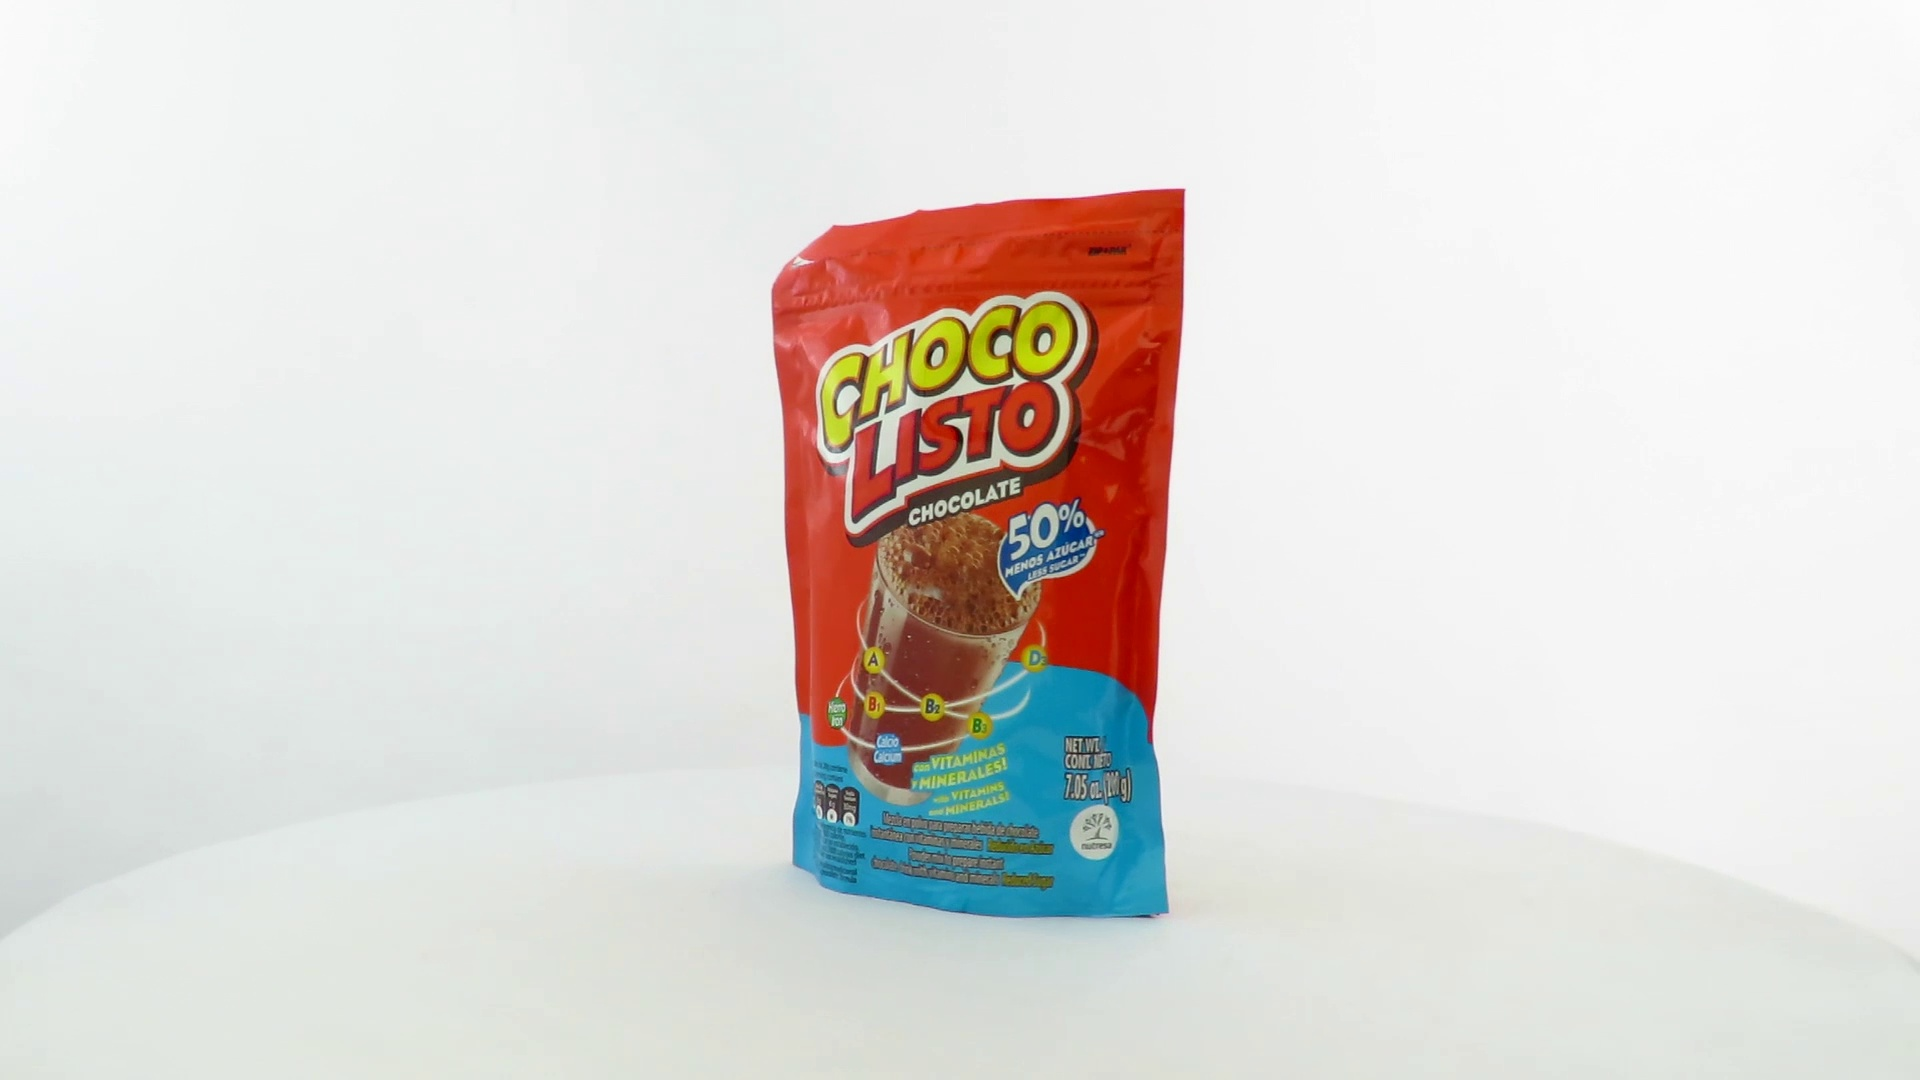COL0170104DYP20000: (766, 183, 1192, 924)
